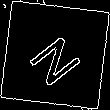N_NE: (23, 24, 87, 86)
